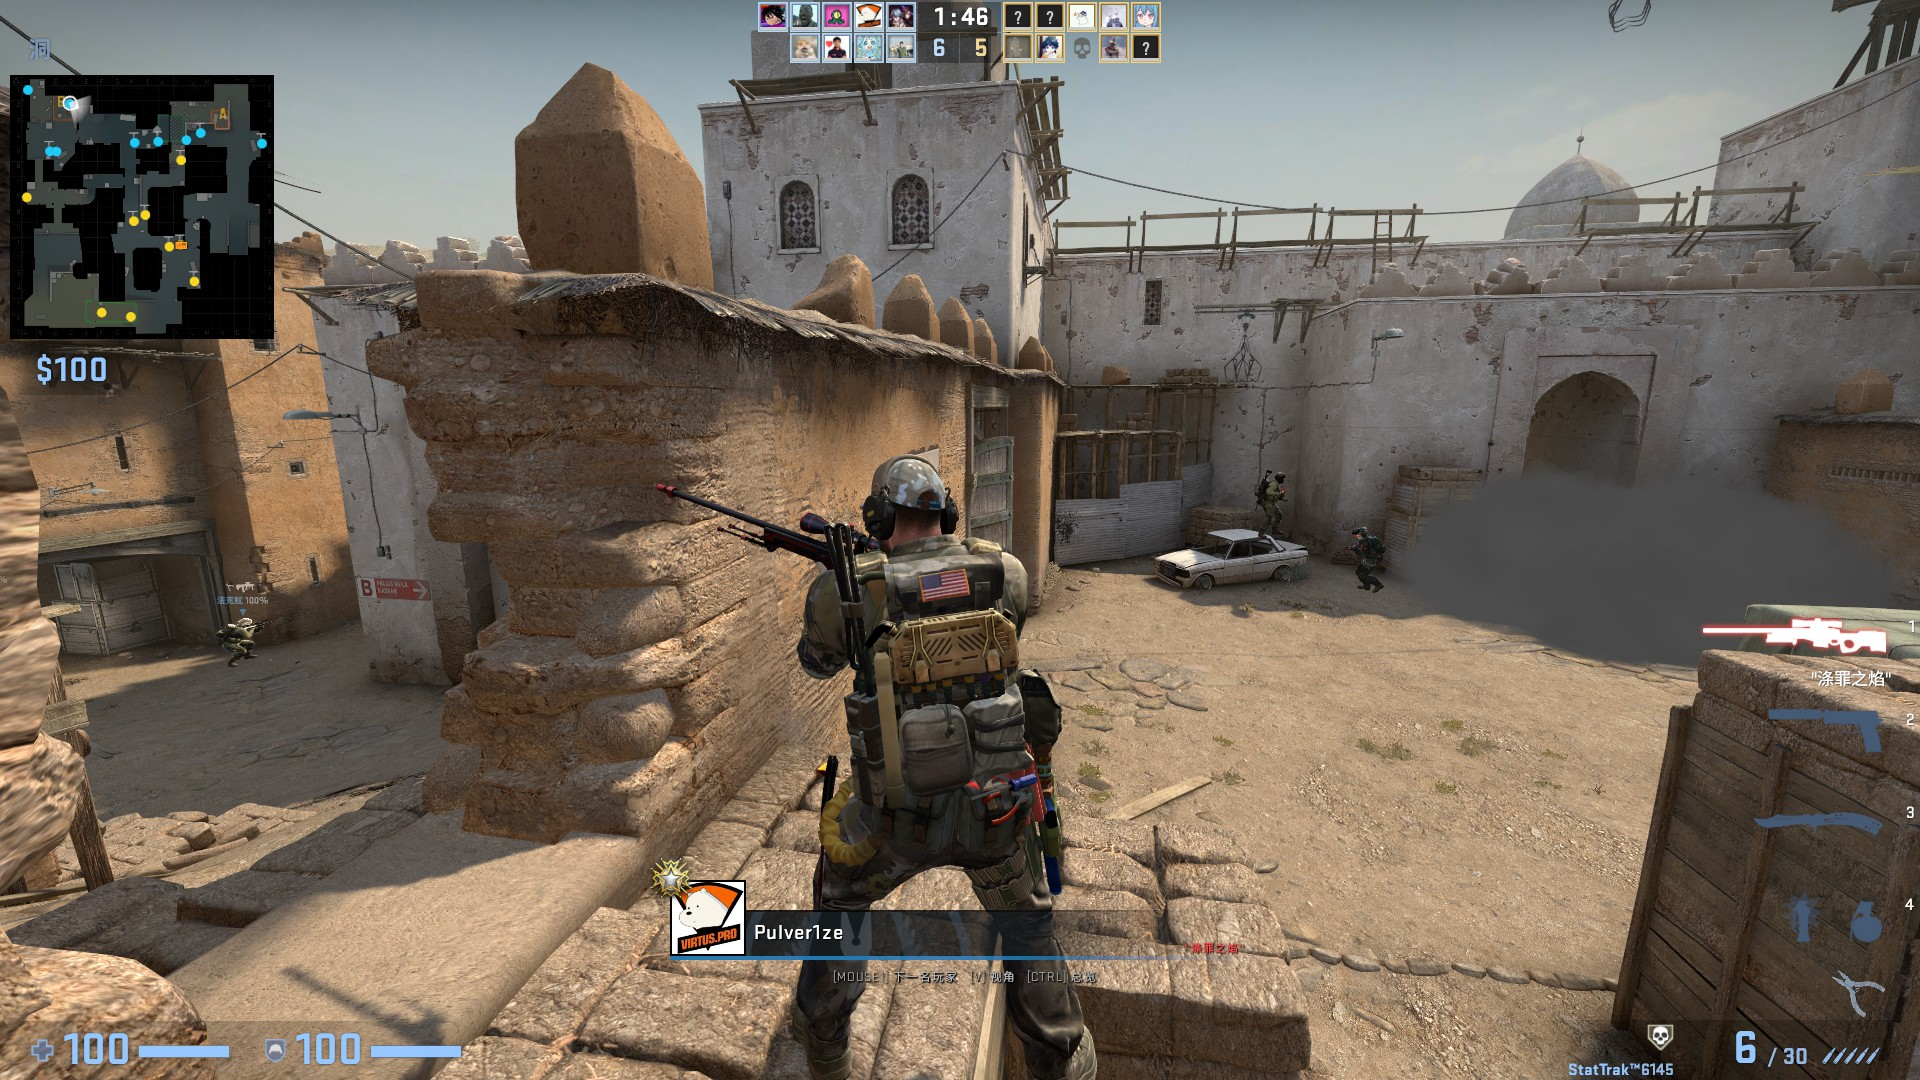head: (862, 453, 964, 546), (1351, 526, 1370, 541), (1273, 471, 1288, 486), (236, 616, 254, 627)
